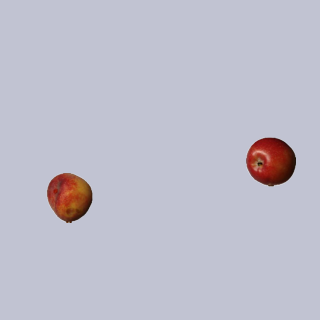Apple Braeburn: (245, 136, 295, 186)
Peach: (44, 172, 94, 222)
